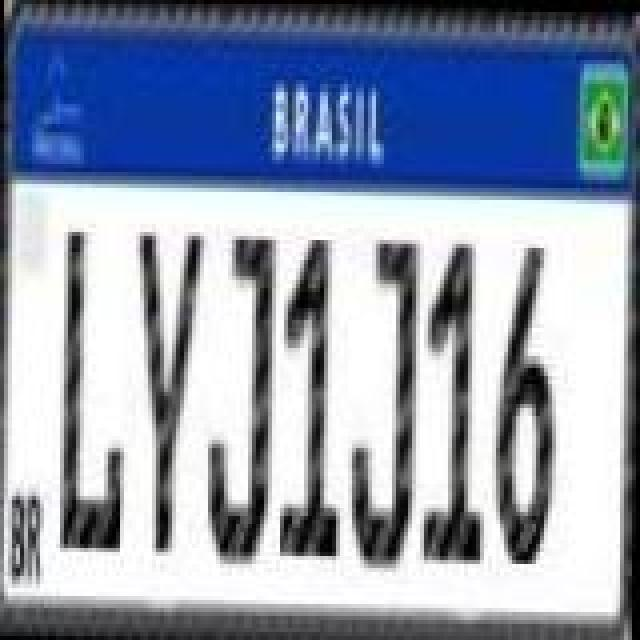1: (420, 232, 492, 568), (276, 234, 348, 558)
6: (490, 240, 558, 564)
J: (348, 234, 420, 578), (208, 232, 280, 568)
L: (60, 228, 124, 552)
Y: (132, 224, 204, 560)
